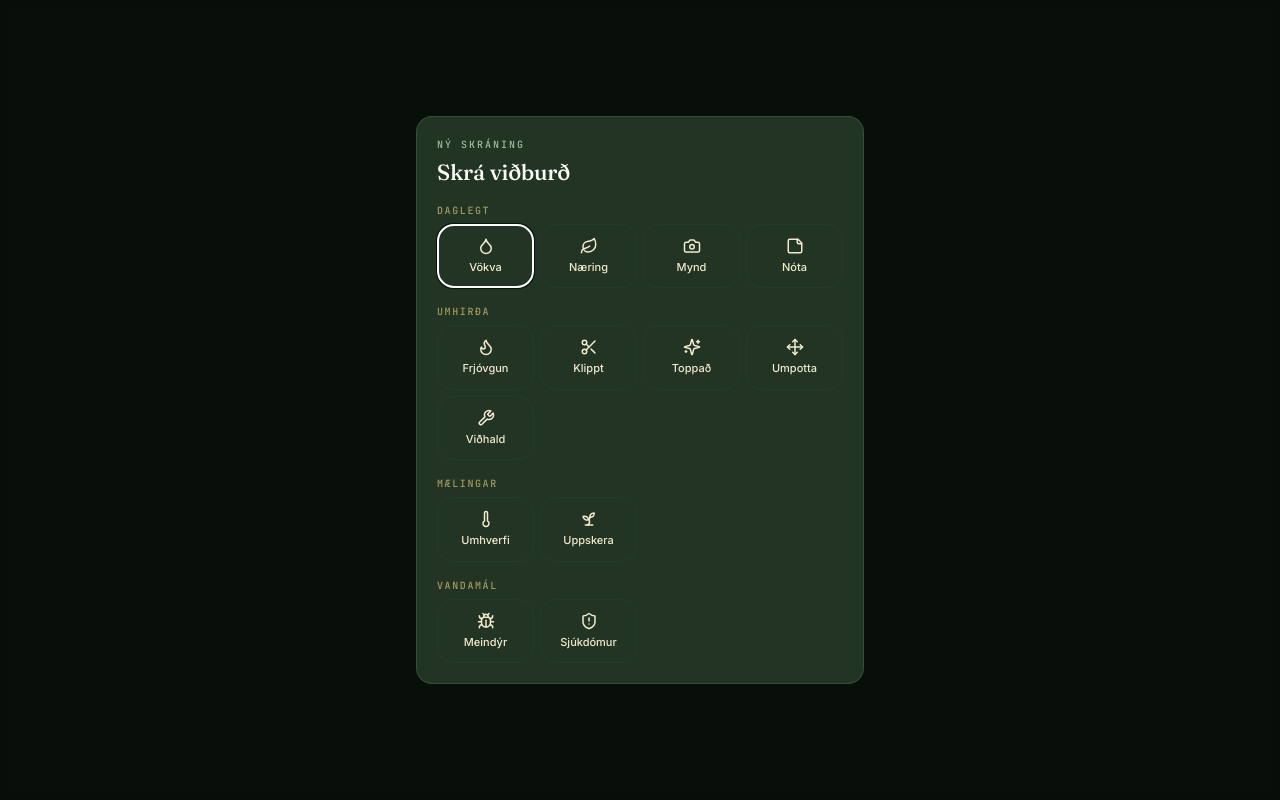
Scenario: LogComposer — skref 1: tegundaval › val á tegund opnar formið með reitum hennar
Click the button "Vökva" at (486, 256), box top-left (437, 224), bottom-right (534, 288)
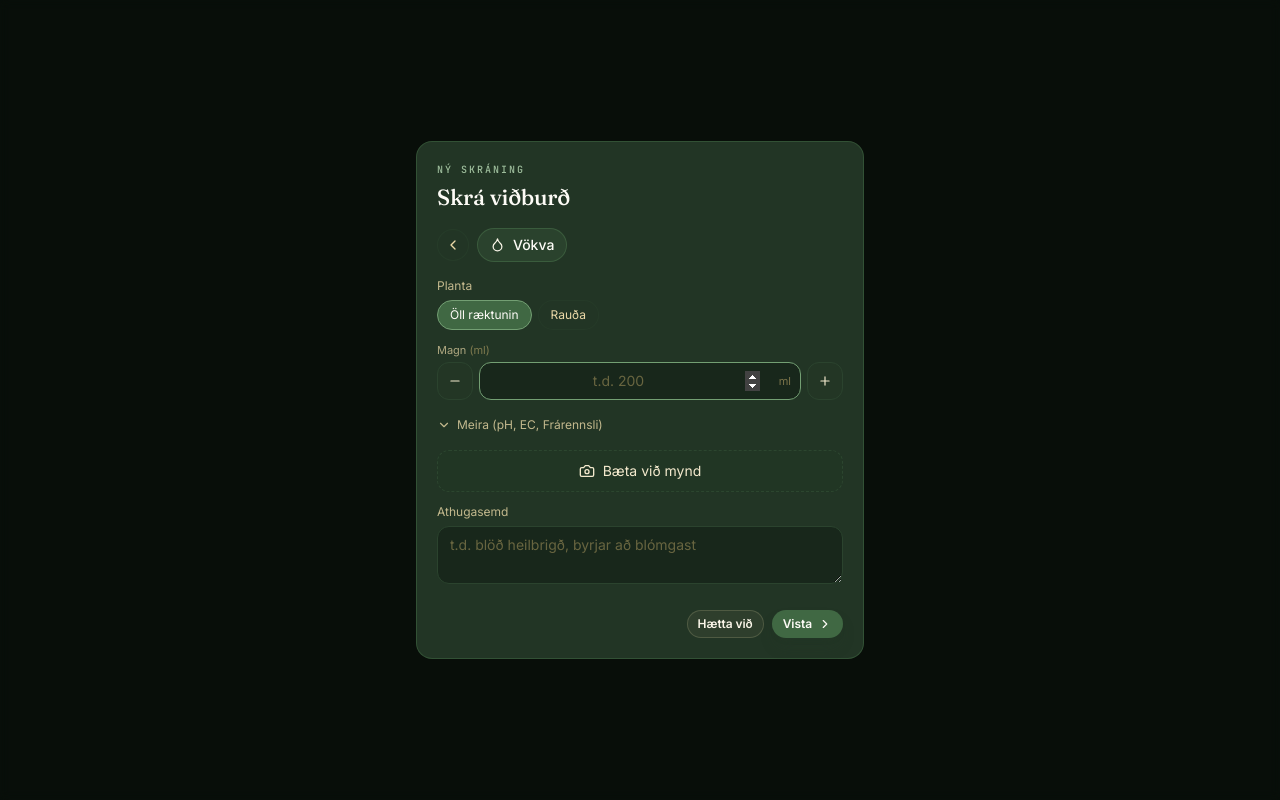
Expected: the number field with placeholder "t.d. 200" is shown, top-left (479, 362), bottom-right (801, 400)
Expected: the button "Vista" is shown, top-left (772, 610), bottom-right (843, 638)
